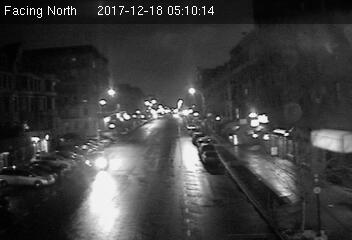car: (83, 150, 109, 170), (200, 149, 219, 164)
